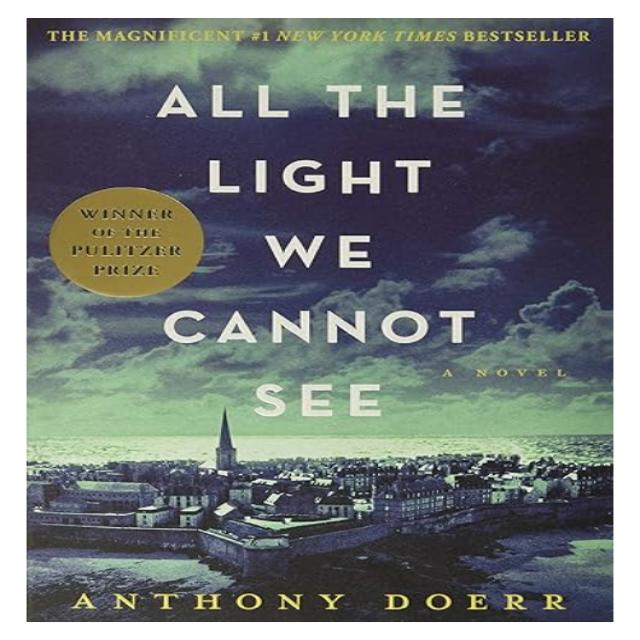titles-or-authors: (147, 77, 486, 422), (56, 585, 585, 617)
